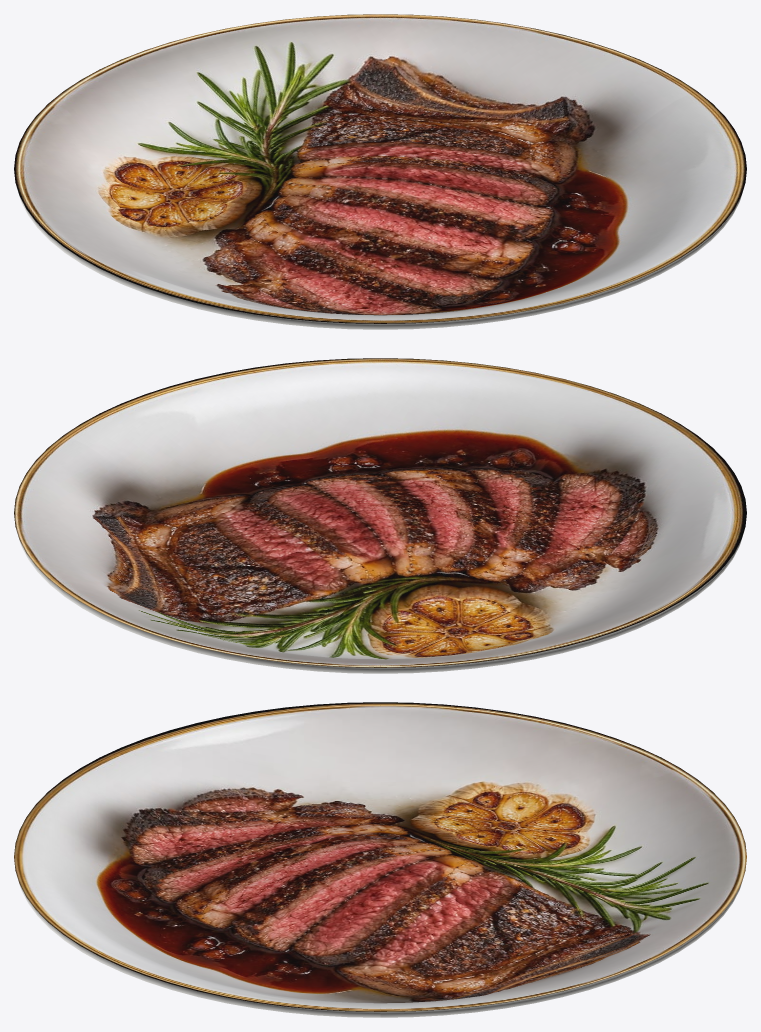
The model's file is ribeye.glb.
3 renders of one model, top to bottom at view 1: azimuth 30°, elevation 25°; view 2: azimuth 150°, elevation 25°; view 3: azimuth 270°, elevation 25°, orthographic.
Parts seen in each view (by area): view 1: dish; view 2: dish; view 3: dish.
Part boxes in pixels (box(x1,y1,x2,y2)): dish: box(14, 14, 746, 329); dish: box(14, 358, 746, 673); dish: box(14, 702, 746, 1017).
Size of the model in its own units: 0.3 by 0.025 by 0.3.
Materials: 2 (1 with a texture image).
